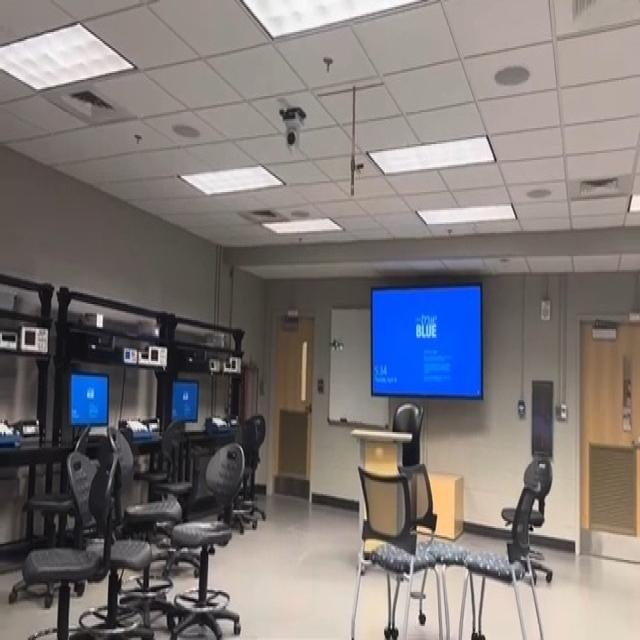drone: (321, 321, 351, 363)
